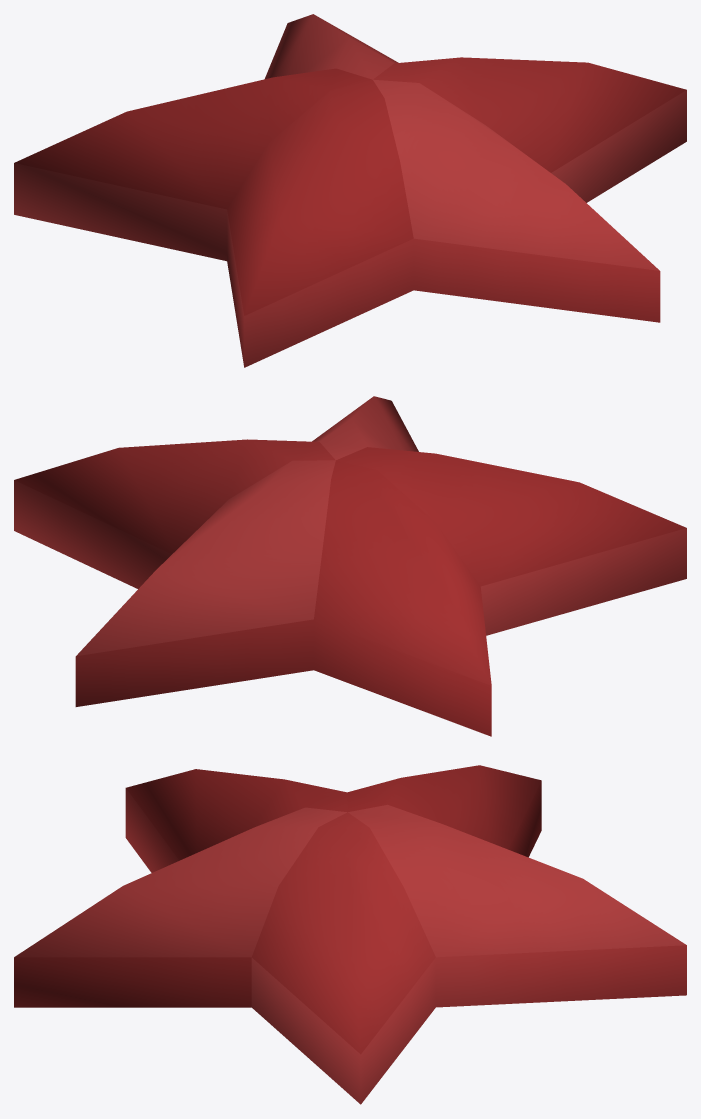
Rendered from Toy_star.fbx.
3 renders of one model, top to bottom at view 1: azimuth 30°, elevation 25°; view 2: azimuth 150°, elevation 25°; view 3: azimuth 270°, elevation 25°, orthographic. The views are drawn at different scales.
Visible parts, largest first — view 1: SM_Toy_05__4_; view 2: SM_Toy_05__4_; view 3: SM_Toy_05__4_.
Boxes of the visible parts, box(x1,y1,x2,y2) form: SM_Toy_05__4_: box(14, 14, 686, 367); SM_Toy_05__4_: box(14, 396, 686, 736); SM_Toy_05__4_: box(14, 765, 686, 1104).
Bounding box in the file's own units: 844 × 202 × 876.
